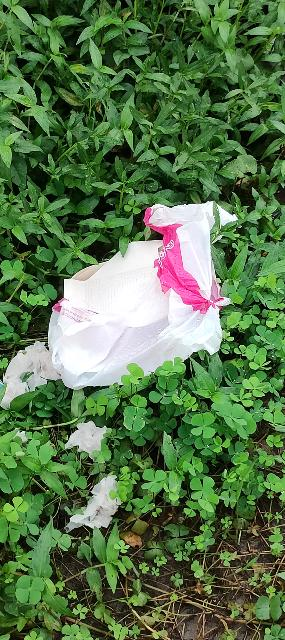polythene: (54, 206, 235, 391)
